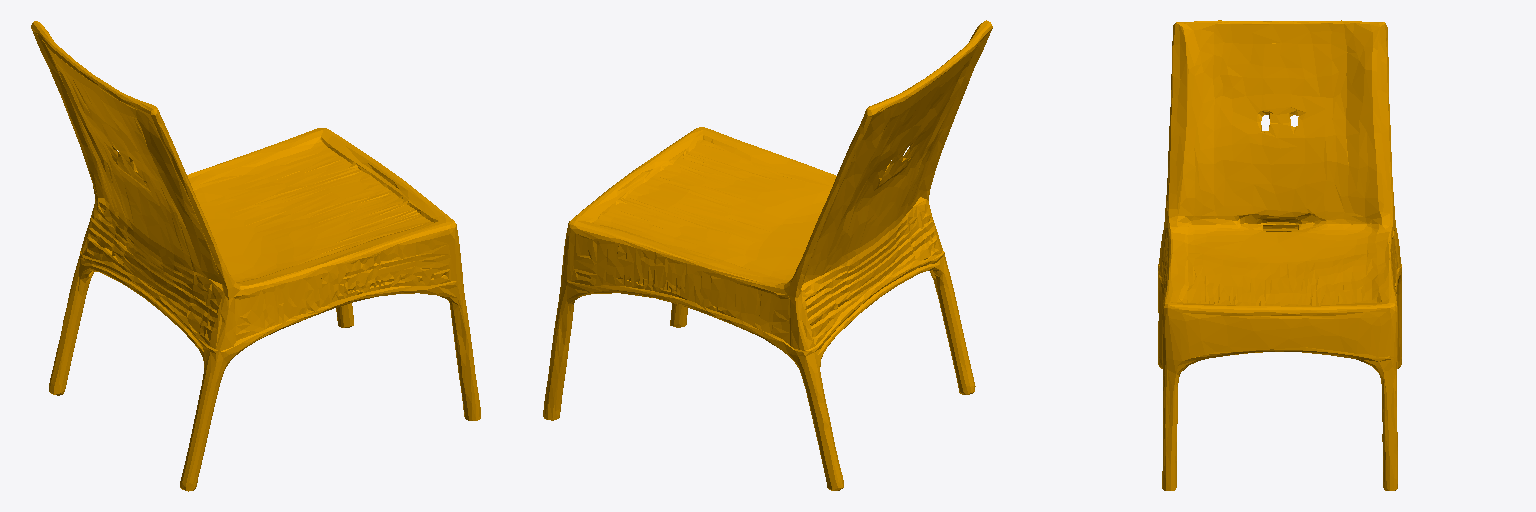
robot.urdf — dining_chair_9:
<?xml version="1.0" ?>
<robot name="dining_chair_9">
   <link name="dining_chair_9">
      <visual>
         <origin xyz="0 0 0" rpy="1.5708 0.0 0.0"/>
         <geometry>
            <mesh filename="mesh/dining_chair_9.obj" scale="1.0 1.0 1.0"/>
         </geometry>
      </visual>
      <collision>
         <origin xyz="0 0 0" rpy="1.5708 0.0 0.0"/>
         <geometry>
            <mesh filename="mesh/dining_chair_9_collision.obj" scale="1.0 1.0 1.0"/>
         </geometry>
         <gazebo>
            <mu1>0.60</mu1>
            <mu2>0.50</mu2>
         </gazebo>
      </collision>
      <inertial>
         <mass value="5.5000"/>
         <origin xyz="0 0 0"/>
         <inertia ixx="1.0" ixy="0.0" ixz="0.0" iyy="1.0" iyz="0.0" izz="1.0"/>
      </inertial>
      <extra_info>
         <scale>0.925000</scale>
         <version>v0.1.5</version>
         <category>dining_chair</category>
         <description>wooden dining chair with woven backrest and minimalist design</description>
         <min_height>0.85</min_height>
         <max_height>1.0</max_height>
         <real_height>0.925</real_height>
         <min_mass>4.5</min_mass>
         <max_mass>6.5</max_mass>
         <generate_time>20251021112135</generate_time>
         <gs_model>mesh/dining_chair_9_gs.ply</gs_model>
      </extra_info>
   </link>
   <custom_data>
      <quality>
         <MeshGeoChecker>YES</MeshGeoChecker>
         <ImageSegChecker>YES</ImageSegChecker>
         <ImageAestheticChecker>4.536602139472961</ImageAestheticChecker>
         <overall>YES</overall>
      </quality>
   </custom_data>
</robot>

--- Render facts (derived) ---
Views: 3 orthographic renders of the robot side by side, from view 1: azimuth 30°, elevation 25°; view 2: azimuth 150°, elevation 25°; view 3: azimuth 270°, elevation 25°.
Model dining_chair_9 with 1 links and 0 joints (none), rooted at dining_chair_9, posed every joint at zero.
Visible links, largest first — view 1: dining_chair_9; view 2: dining_chair_9; view 3: dining_chair_9.
Boxes of the visible links, <box> form: dining_chair_9: <box>31,21,480,491</box>; dining_chair_9: <box>543,20,992,490</box>; dining_chair_9: <box>1158,20,1401,490</box>.
Bounding box of the posed robot: 0.8417 × 0.6127 × 0.925 m (x, y, z).
Meshes: 1 distinct files referenced, 1 mesh visuals loaded (1 OBJ).
